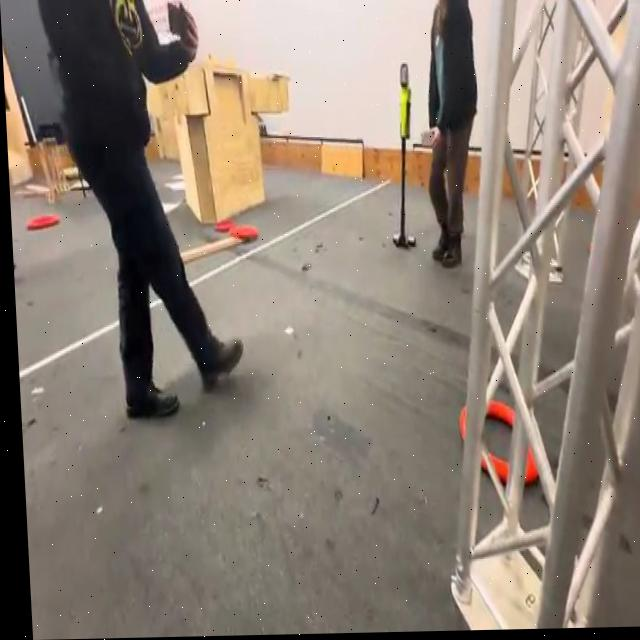note: (453, 395, 538, 496), (23, 214, 59, 235), (227, 223, 256, 246)
